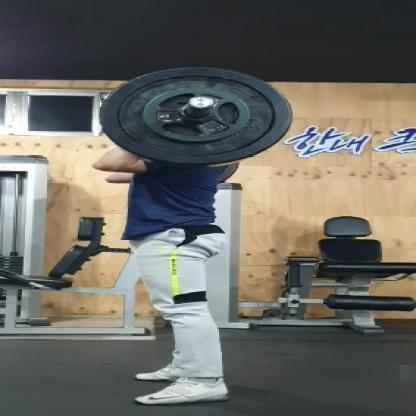barbell: (101, 66, 296, 185)
